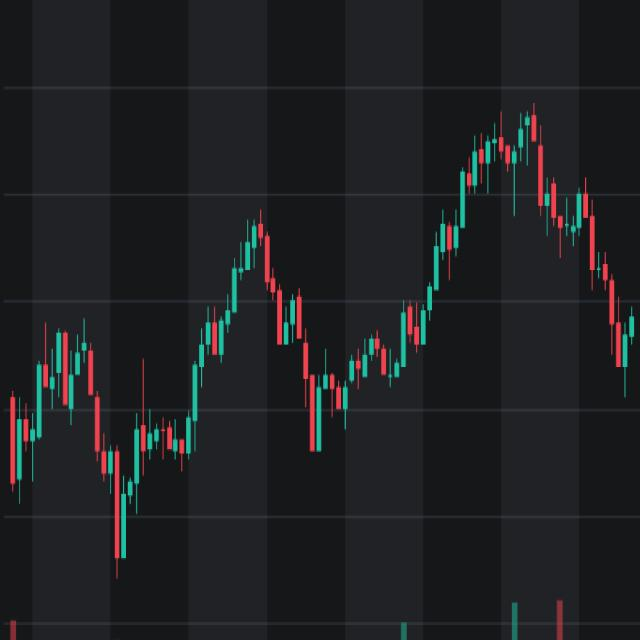Channel-up: (2, 28, 636, 636)
Head-Shoulders: (181, 209, 336, 418)
